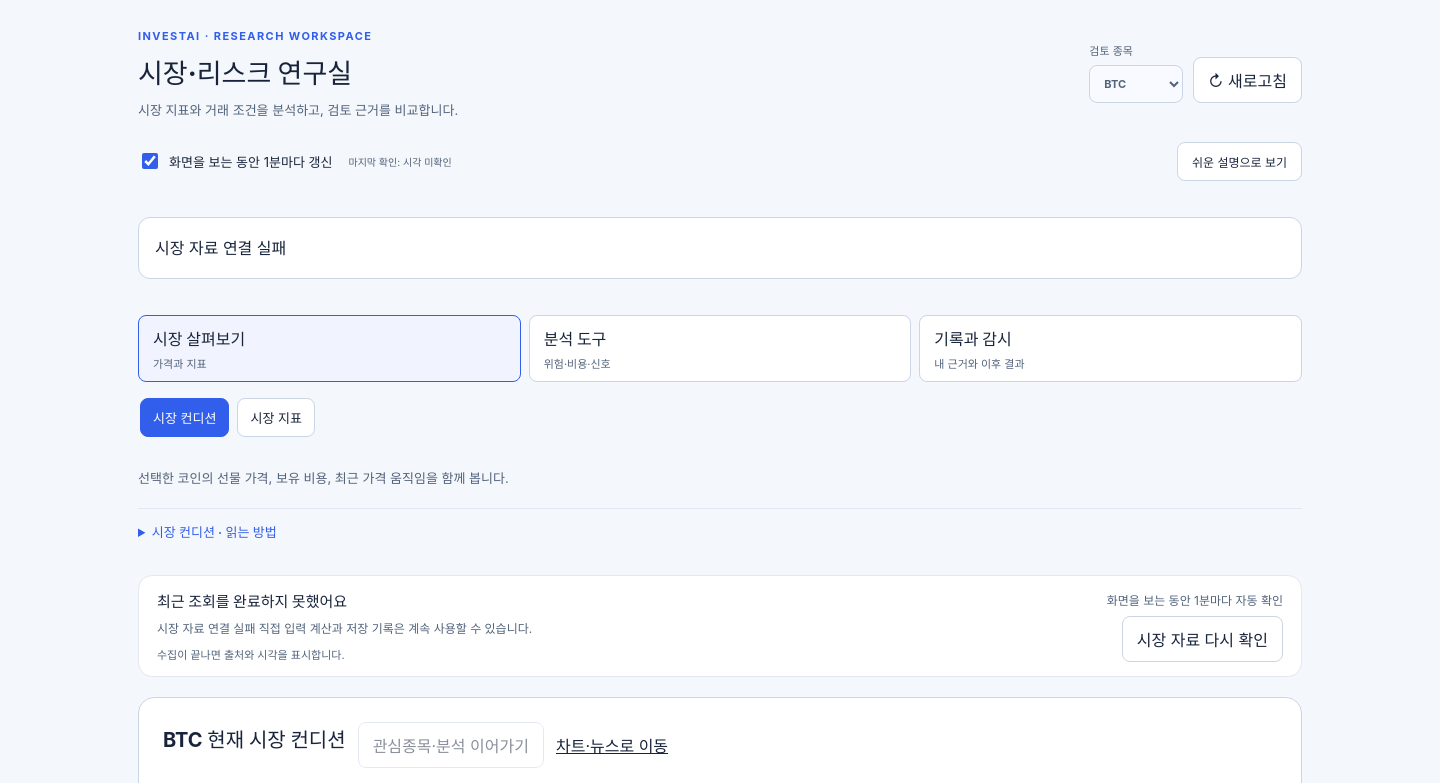
Test: market research workflows › keeps manual expert risk calculation usable when providers fail
Expected: the message "시장 자료 연결 실패" is shown, [138,217,1302,279]
Click the button "분석 도구 위험·비용·신호" at x=575, y=339, box [529,315,911,382]
(page scrolled)
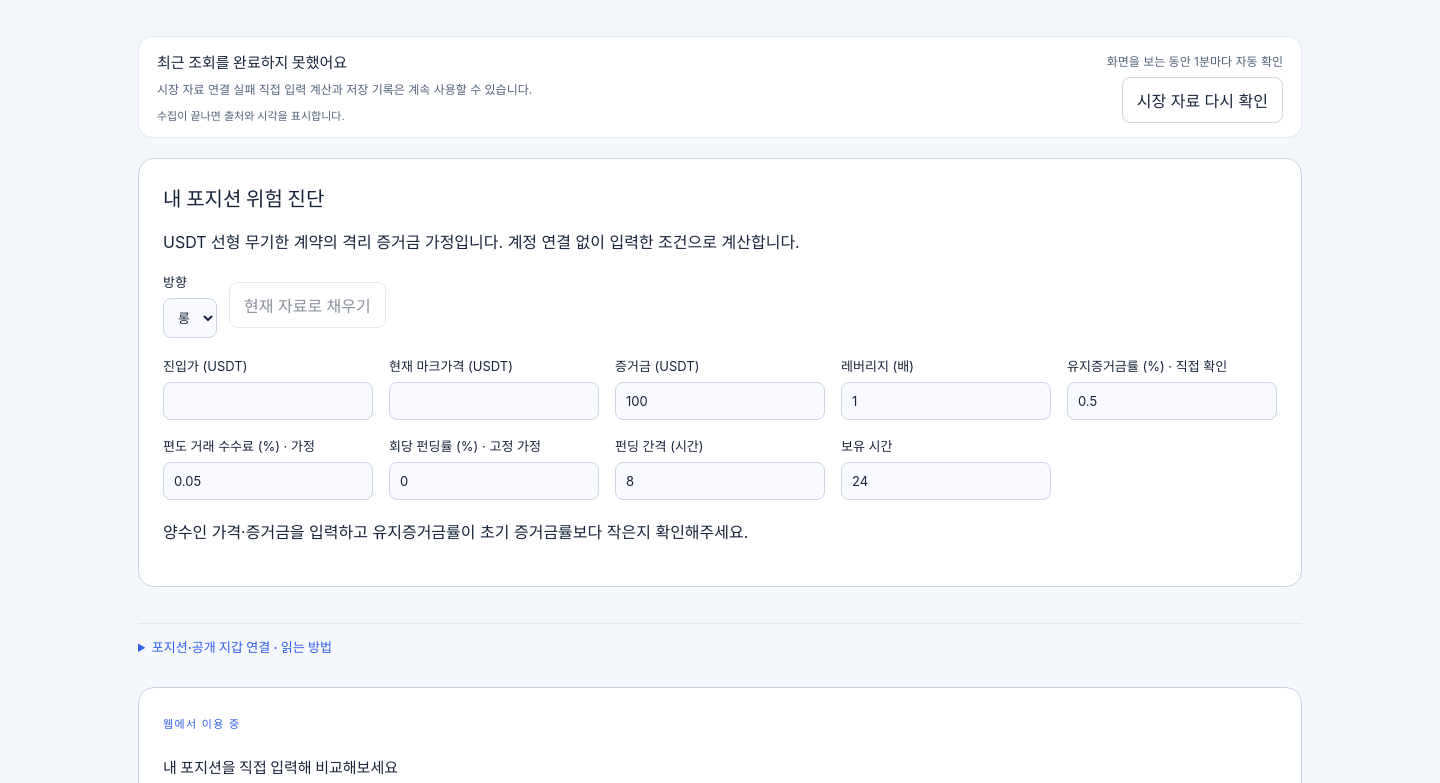
Result: the button "현재 자료로 채우기" is disabled at [229,282,386,328]
Type "100" into the number field labelled "진입가 (USDT)" at x=268, y=401, box [163,382,373,420]
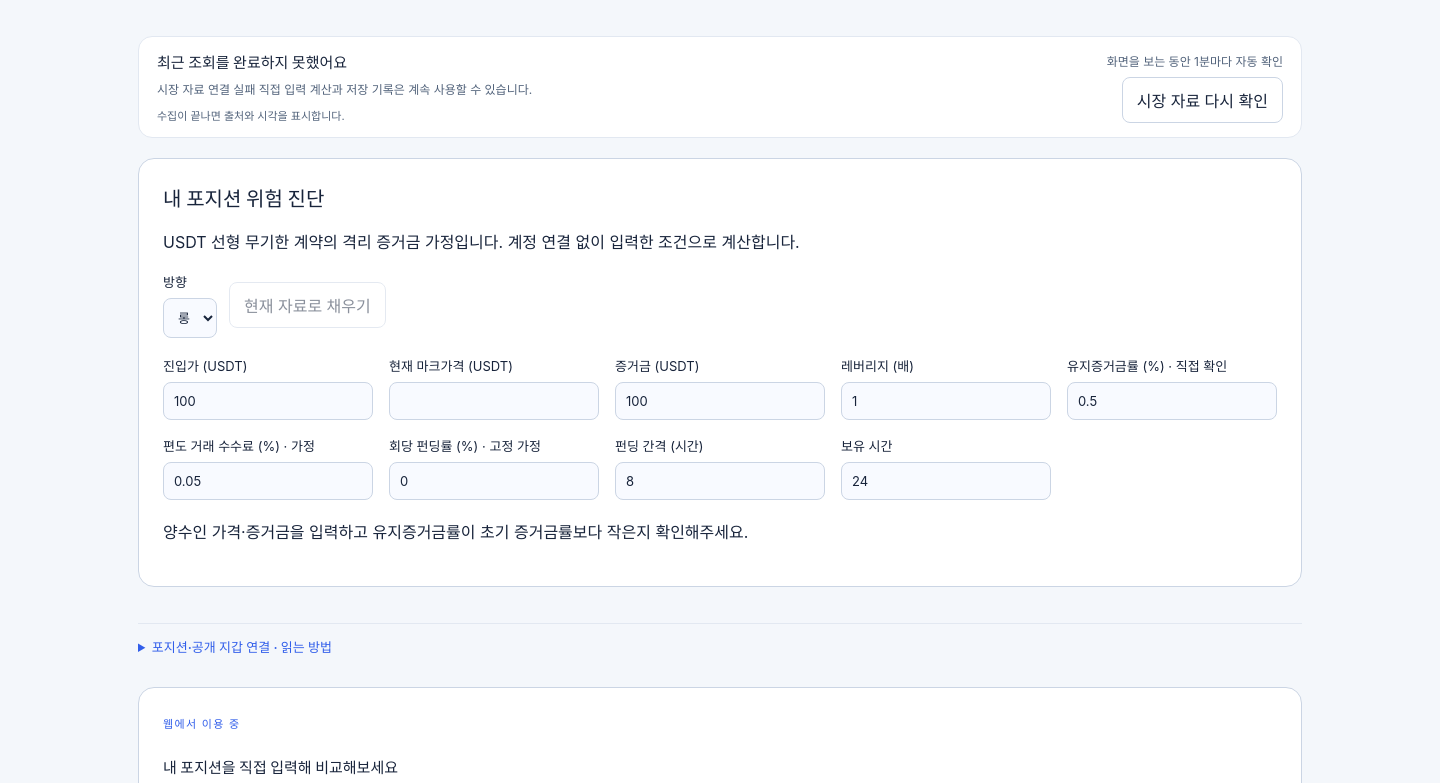
Type "110" into the number field labelled "현재 마크가격 (USDT)" at x=494, y=401, box [389,382,599,420]
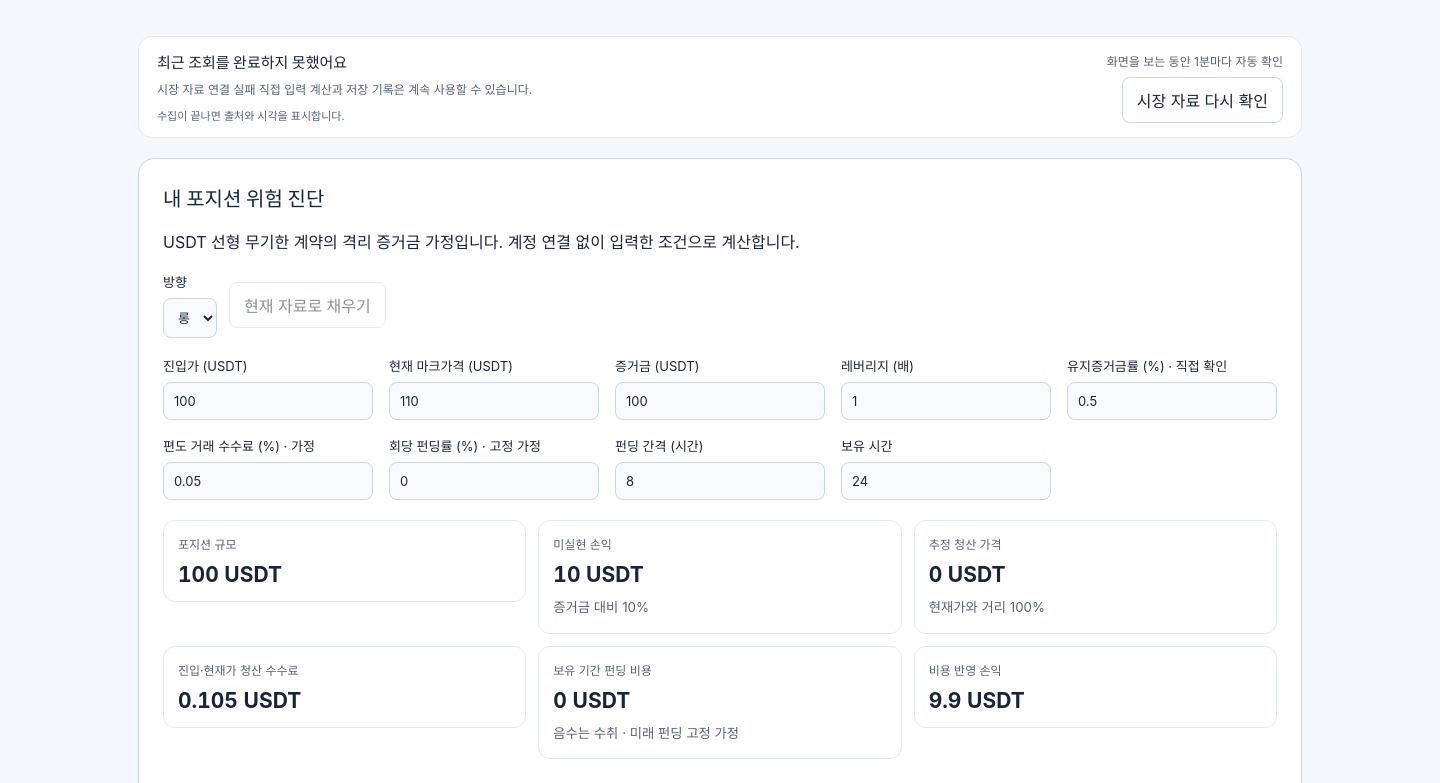
Result: the text "비용 반영 손익" is shown at [929,663,1002,678]
Result: the text "10 USDT" is shown at [553,562,644,587]
